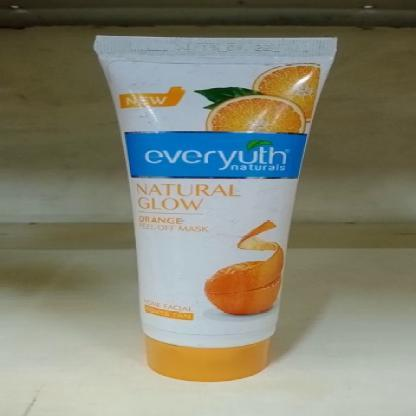EY NAT GLOW ORANGE PEEL OFF AY 90G: (91, 36, 337, 382)
